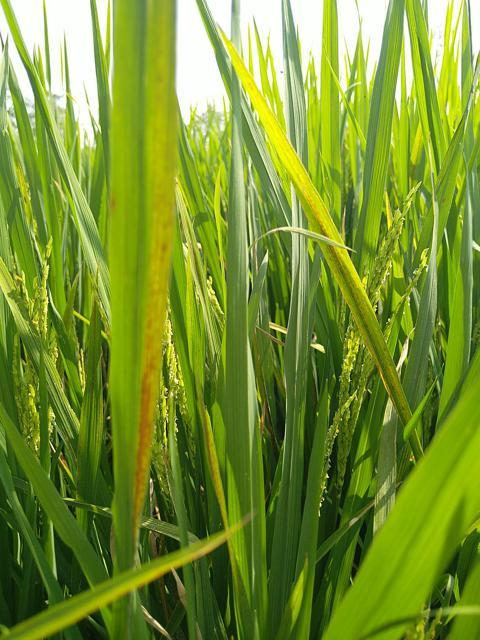Leaf Streak: (287, 168, 413, 427), (120, 117, 175, 569)
